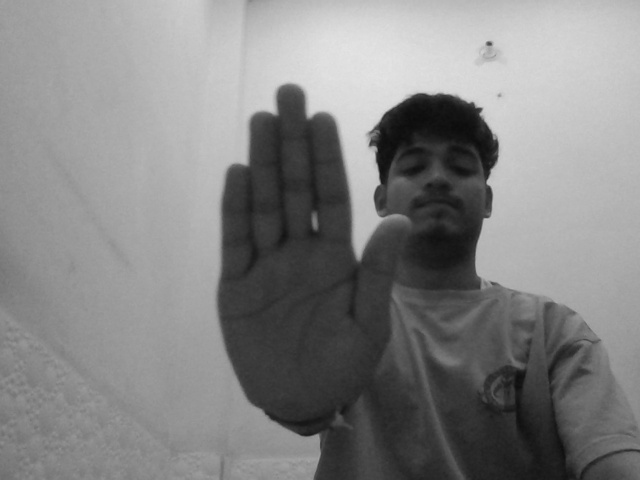Stop: (205, 77, 415, 427)
